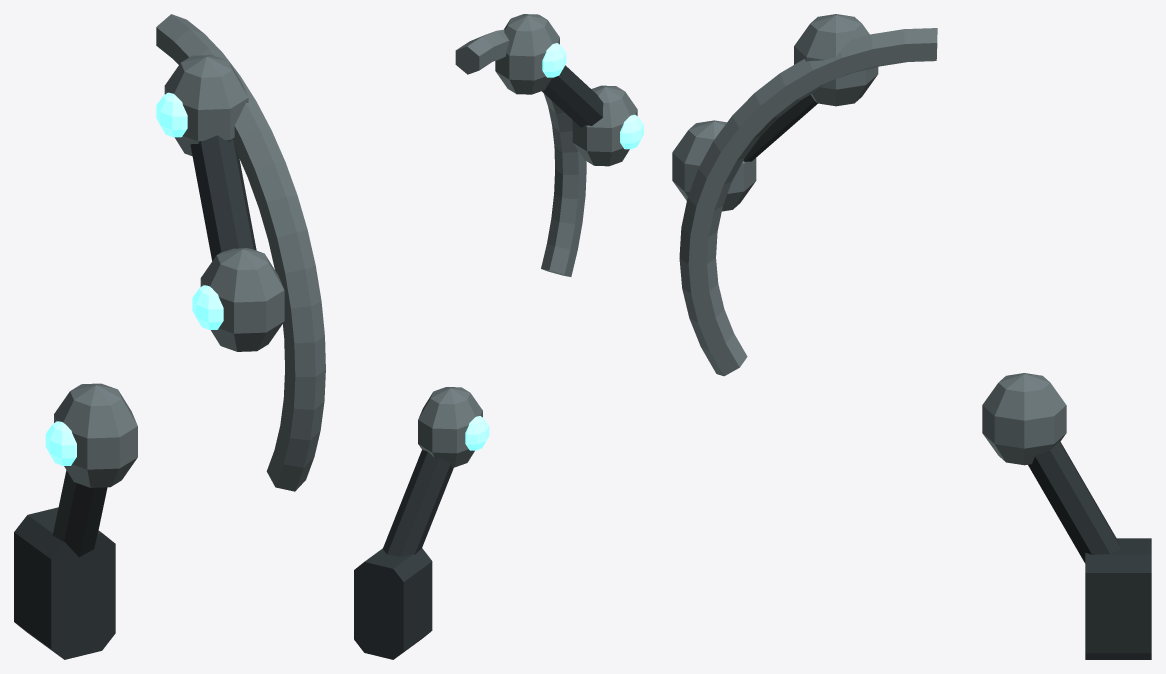
The model's file is cranial_interface_right.glb.
The picture shows the model from 3 angles, left to right: view 1: azimuth 30°, elevation 25°; view 2: azimuth 150°, elevation 25°; view 3: azimuth 270°, elevation 25°; orthographic projection. The views are drawn at different scales.
Parts seen in each view (by area): view 1: cranial_interface_right; view 2: cranial_interface_right; view 3: cranial_interface_right.
Boxes of the visible parts, left/top/right/bottom form: cranial_interface_right: left=14, top=14, right=325, bottom=659; cranial_interface_right: left=354, top=14, right=643, bottom=659; cranial_interface_right: left=672, top=14, right=1151, bottom=659.
Size of the model in its own units: 0.0237 by 0.1255 by 0.0866.
